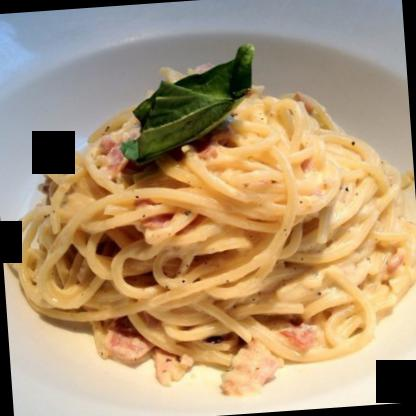pasta: (15, 69, 415, 397)
